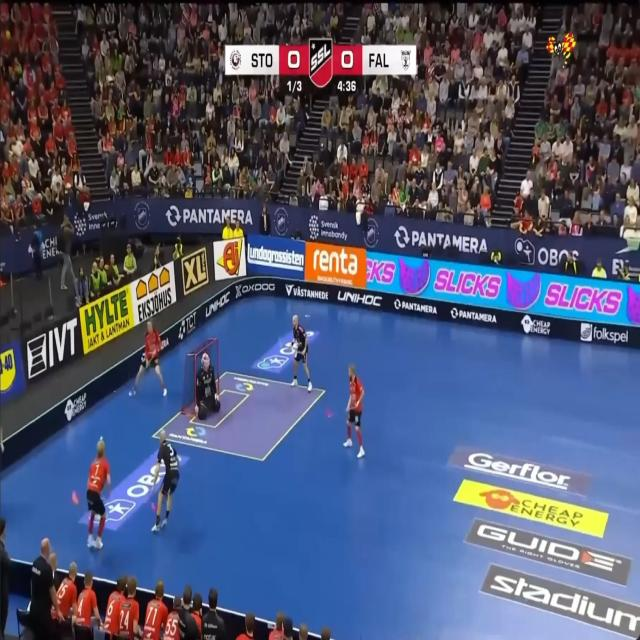player: (129, 321, 167, 395), (152, 431, 179, 531), (86, 438, 110, 548), (51, 562, 78, 636), (343, 364, 364, 458), (195, 352, 220, 419), (291, 314, 312, 392), (103, 575, 127, 639), (142, 580, 168, 639), (76, 572, 102, 627), (118, 577, 141, 639), (163, 596, 181, 639), (0, 426, 3, 453)
